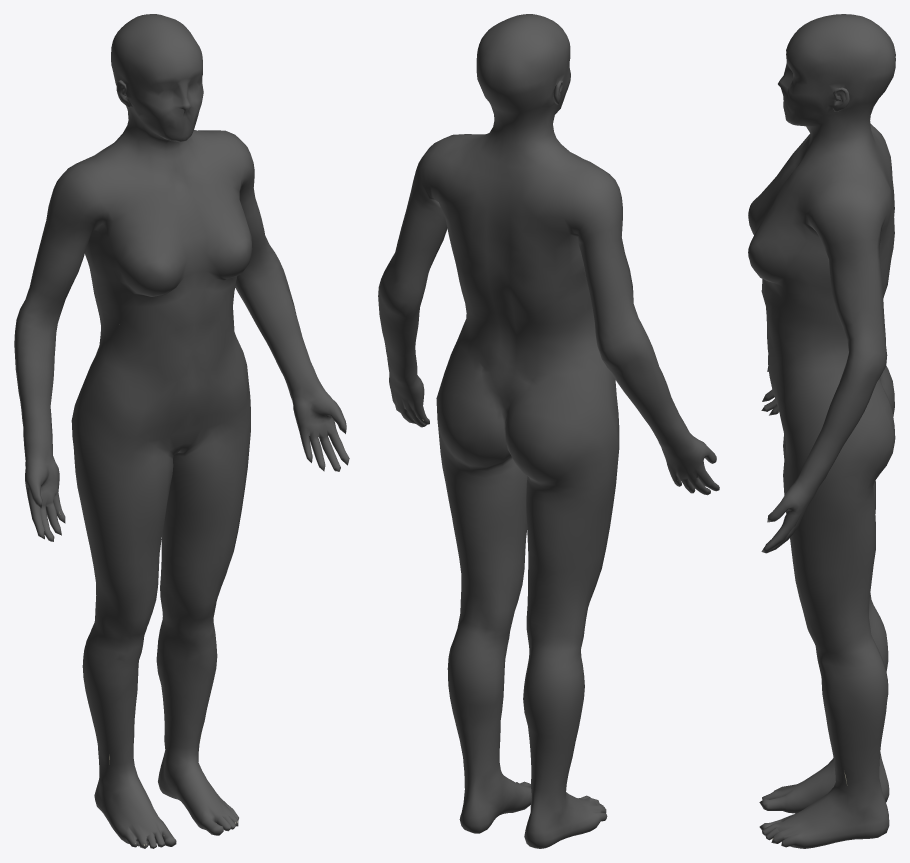
Rendered from nervous_system.glb.
The picture shows the model from 3 angles, left to right: view 1: azimuth 30°, elevation 25°; view 2: azimuth 150°, elevation 25°; view 3: azimuth 270°, elevation 25°; orthographic projection.
Parts seen in each view (by area): view 1: Object_5; view 2: Object_5; view 3: Object_5.
Part boxes in pixels (x1,y1,x2,y2): Object_5: (14,14,349,848); Object_5: (378,14,719,848); Object_5: (748,14,895,848).
Size of the model in its own units: 0.7371 by 1.8 by 0.2986.
Materials: 2 (1 with a texture image).
